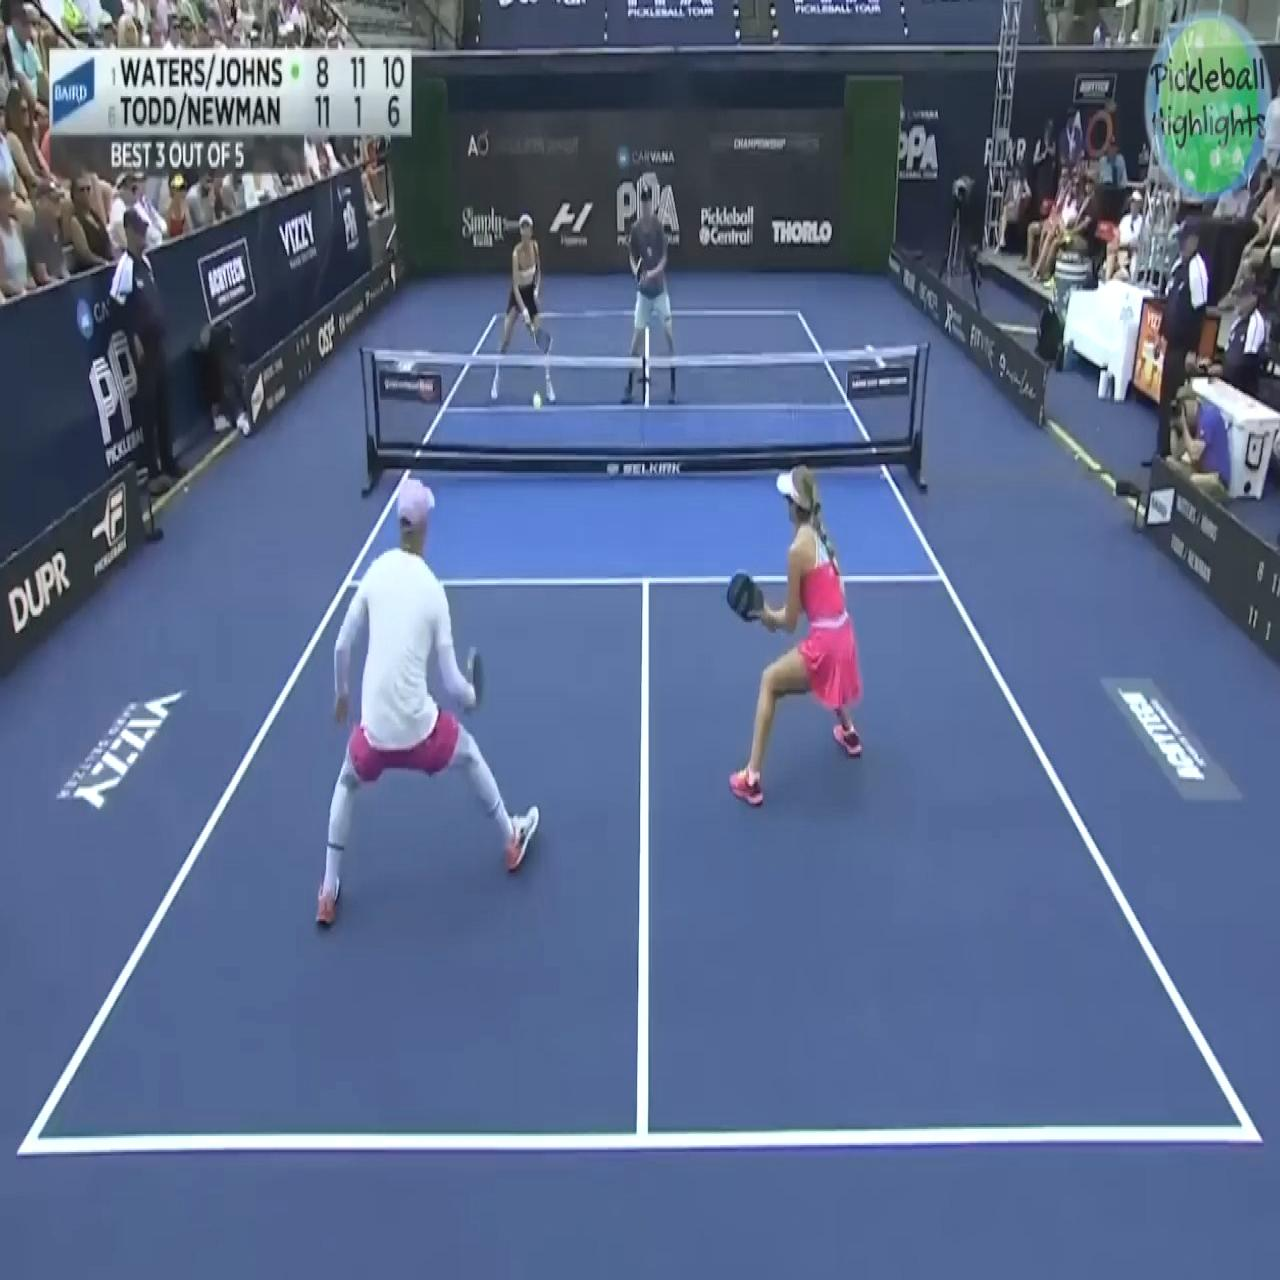Pickleball: (530, 386, 544, 413)
